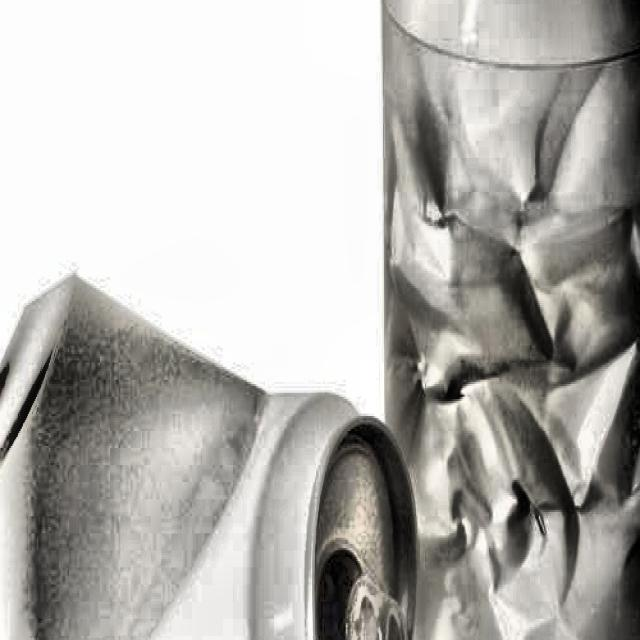metal: (372, 0, 640, 640), (0, 247, 424, 640)
